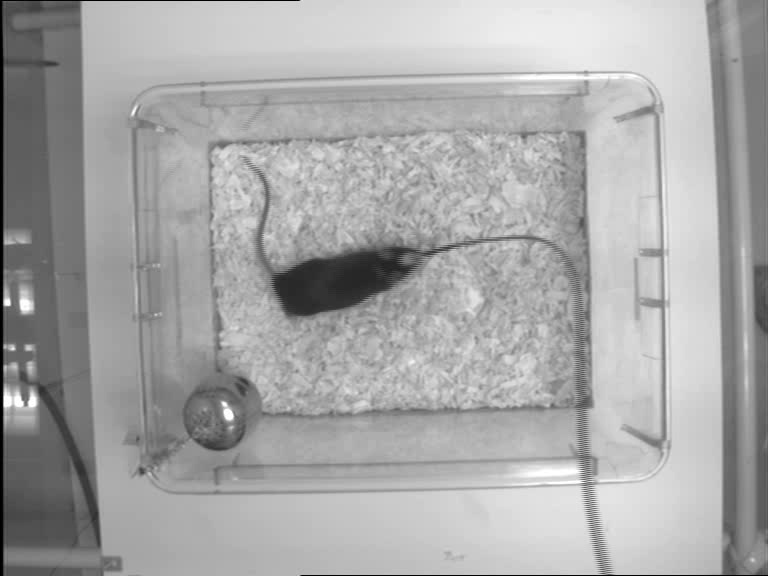mice: (239, 151, 424, 318)
